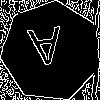A: (26, 26, 66, 76)
